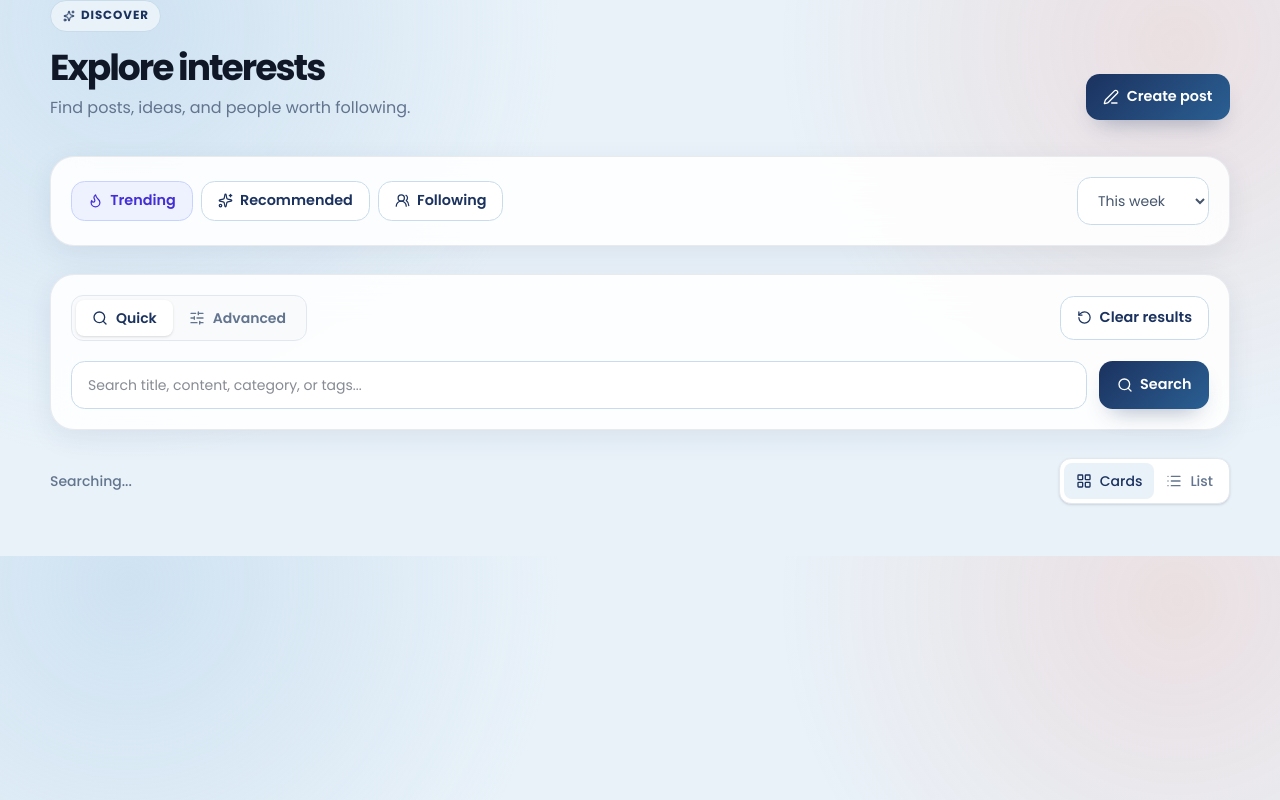
Explore discovery feeds › shows a login state for personalized feeds when signed out
Click the button "Recommended" at coordinates (285, 201), box [201,181,370,221]
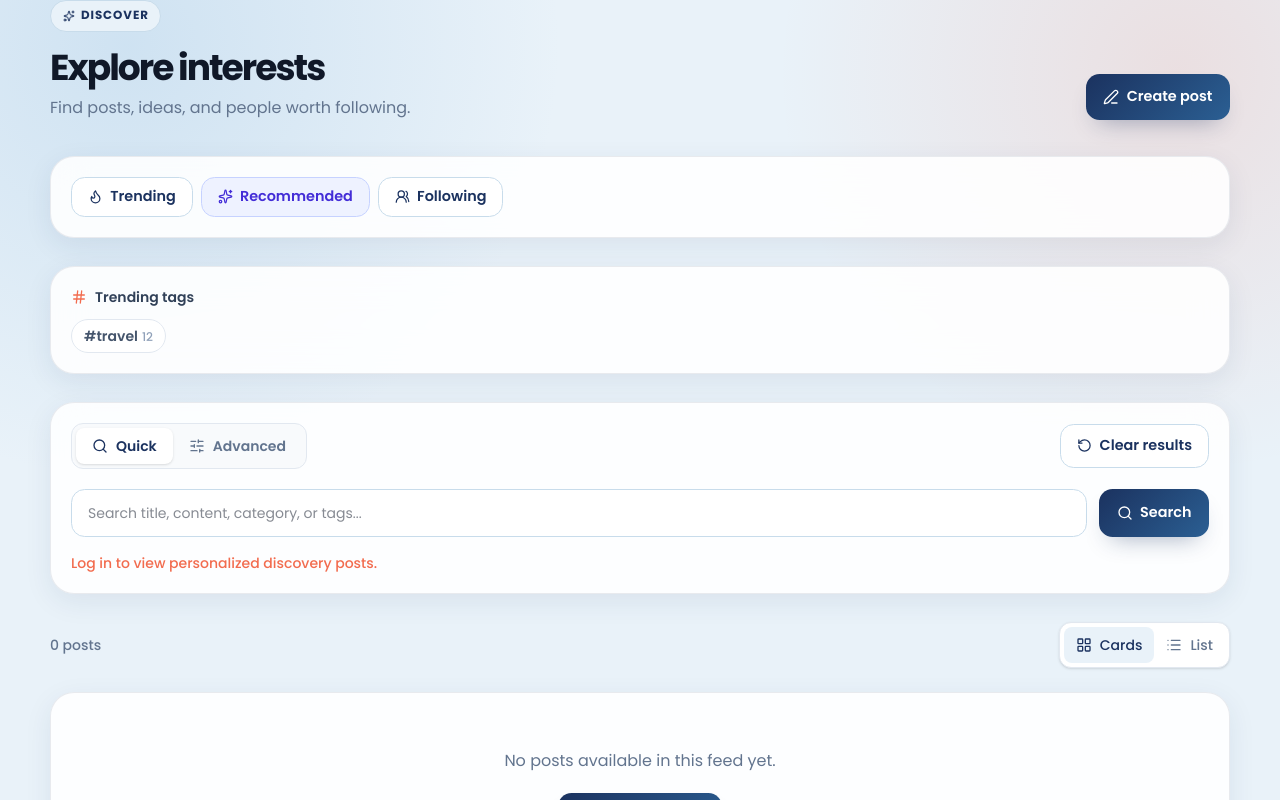
Now the text "Log in to view personalized discovery posts." is shown, box [71,552,377,572]
